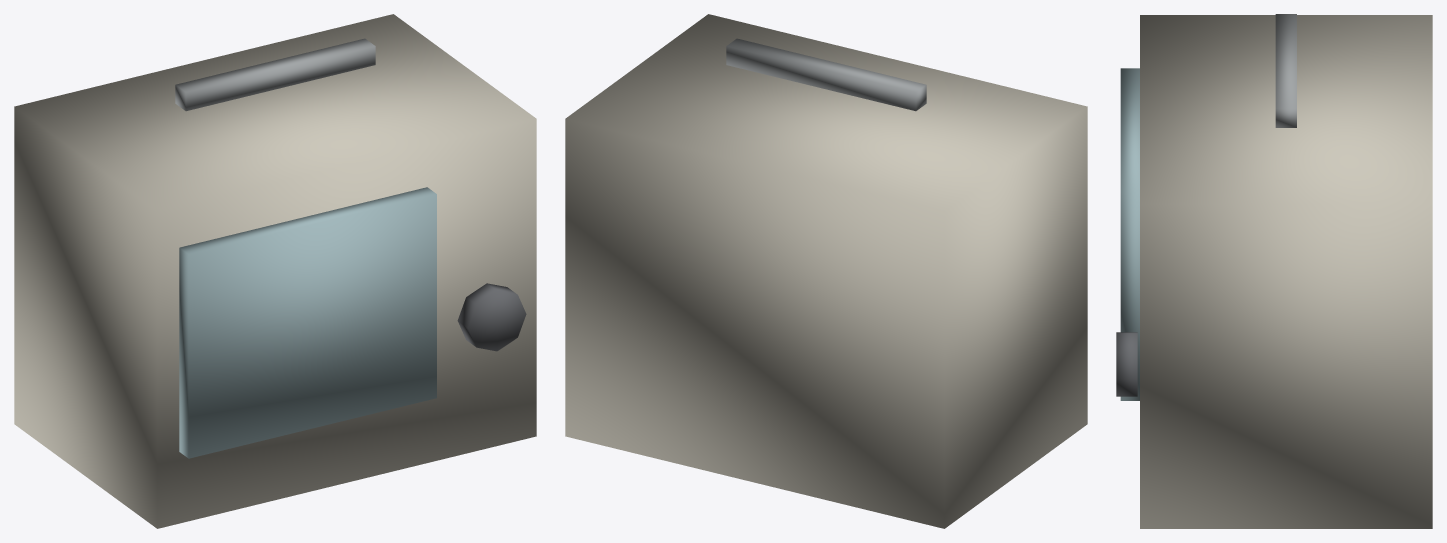
The model's file is portable_television__reinforced.glb.
The picture shows the model from 3 angles, left to right: view 1: azimuth 30°, elevation 25°; view 2: azimuth 150°, elevation 25°; view 3: azimuth 270°, elevation 25°; orthographic projection. The views are drawn at different scales.
Visible parts, largest first — view 1: world; view 2: world; view 3: world.
Boxes of the visible parts, box(x1,y1,x2,y2) form: world: box(14, 14, 536, 528); world: box(565, 14, 1087, 528); world: box(1116, 14, 1432, 528).
Bounding box in the file's own units: 0.5356 × 0.4921 × 0.3785.
